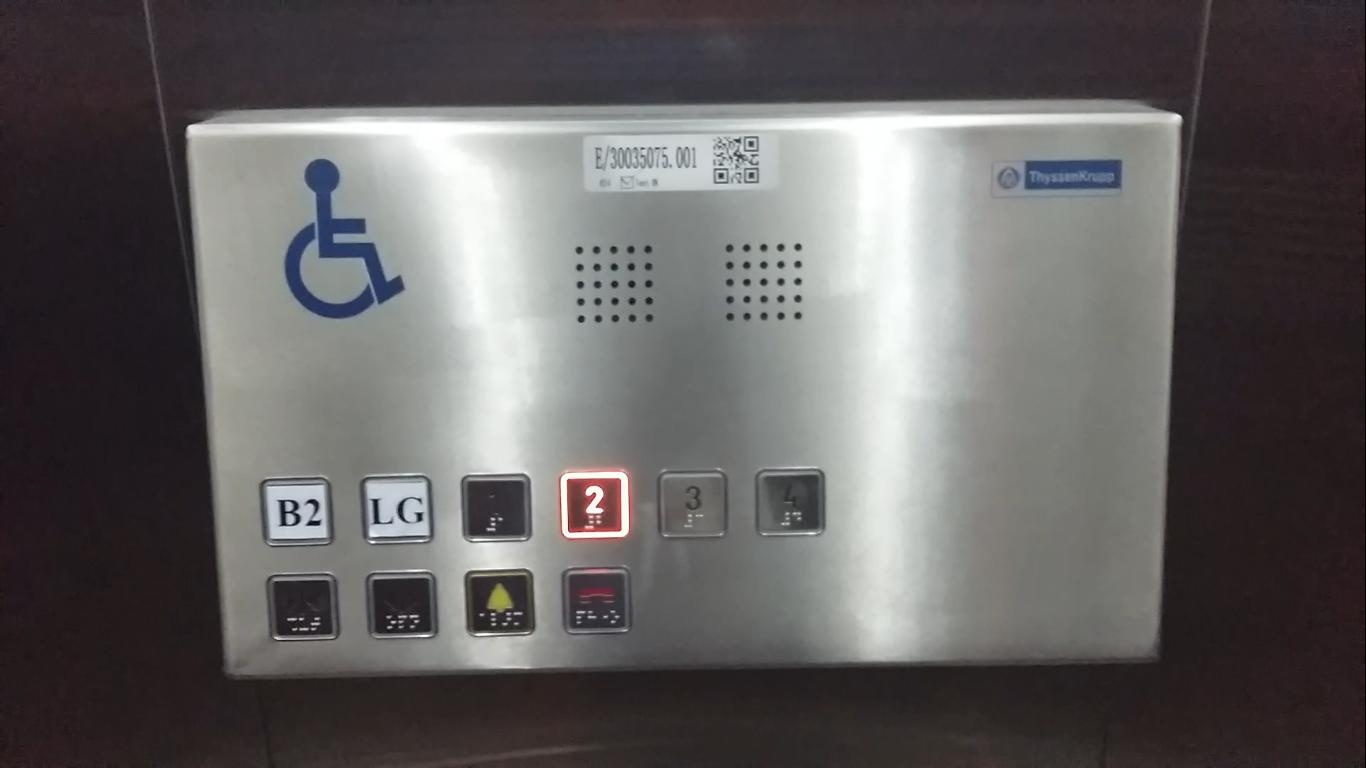2: (559, 469, 630, 539)
3: (656, 469, 730, 538)
4: (754, 468, 827, 537)
B2: (260, 476, 334, 548)
LG: (360, 473, 433, 545)
alarm: (464, 569, 534, 637)
blur: (366, 570, 438, 640), (460, 473, 533, 541)
call: (562, 565, 633, 634)
close: (265, 572, 340, 641)
